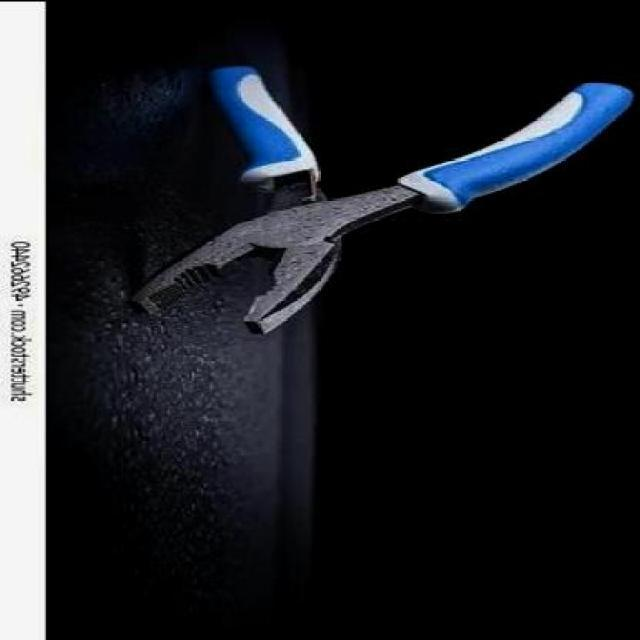pliers: (135, 60, 637, 334)
